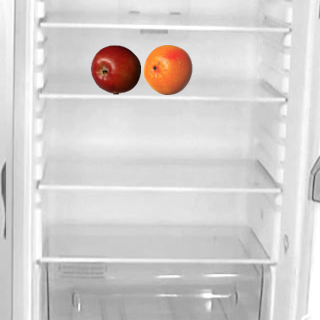Apple Braeburn: (90, 44, 140, 94)
Grapefruit Pink: (142, 44, 192, 94)
